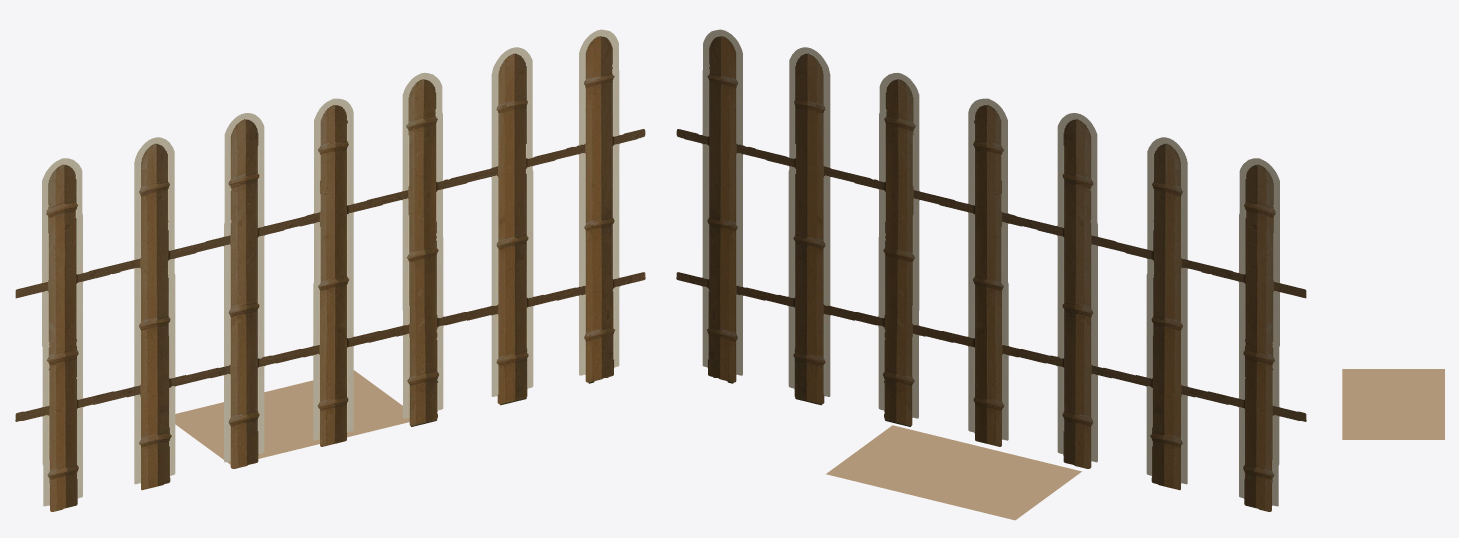
File: toad-prop-fence-run-r.glb
3 renders of one model, left to right at view 1: azimuth 30°, elevation 25°; view 2: azimuth 150°, elevation 25°; view 3: azimuth 270°, elevation 25°, orthographic. The views are drawn at different scales.
Visible parts, largest first — view 1: fence-run-r; view 2: fence-run-r; view 3: fence-run-r.
Boxes of the visible parts, x1,y1,x2,y2 form: fence-run-r: (15, 29, 645, 511); fence-run-r: (676, 29, 1306, 520); fence-run-r: (1342, 369, 1444, 439).
Size of the model in its own units: 0.18 by 0.0968 by 0.035.
Materials: 1 (1 with a texture image).
